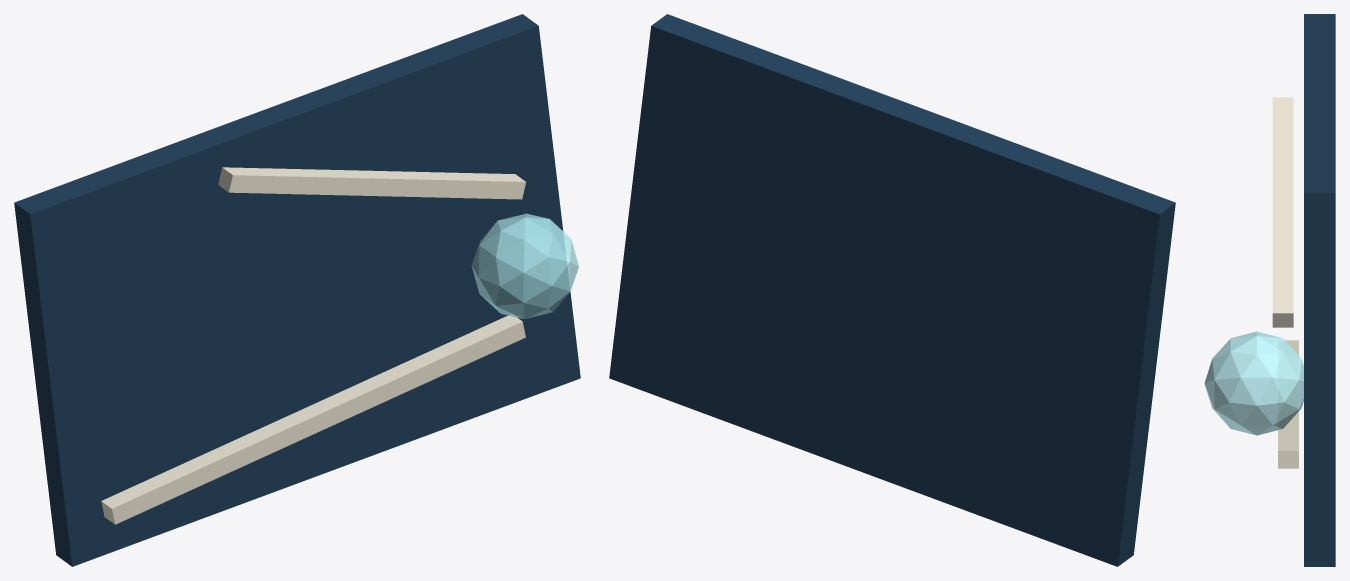
Rendered from 02_world_prop_polish.glb.
3 renders of one model, left to right at view 1: azimuth 30°, elevation 25°; view 2: azimuth 150°, elevation 25°; view 3: azimuth 270°, elevation 25°, orthographic. The views are drawn at different scales.
Visible parts, largest first — view 1: object_overlay_plate, edge_wear_a, glow_socket, edge_wear_b; view 2: object_overlay_plate; view 3: object_overlay_plate, glow_socket, edge_wear_b, edge_wear_a.
Boxes of the visible parts, <box> form: object_overlay_plate: <box>14,14,580,566</box>; edge_wear_a: <box>101,314,525,524</box>; glow_socket: <box>471,213,578,318</box>; edge_wear_b: <box>218,167,525,199</box>; object_overlay_plate: <box>609,14,1175,566</box>; object_overlay_plate: <box>1304,14,1335,566</box>; glow_socket: <box>1204,331,1303,435</box>; edge_wear_b: <box>1272,97,1293,327</box>; edge_wear_a: <box>1278,340,1298,468</box>.
Size of the model in its own units: 1.18 by 0.877 by 0.25.
